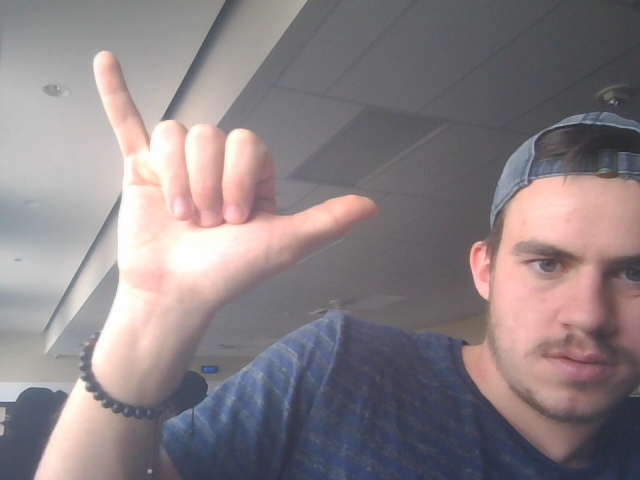birdsup: (88, 48, 385, 311)
